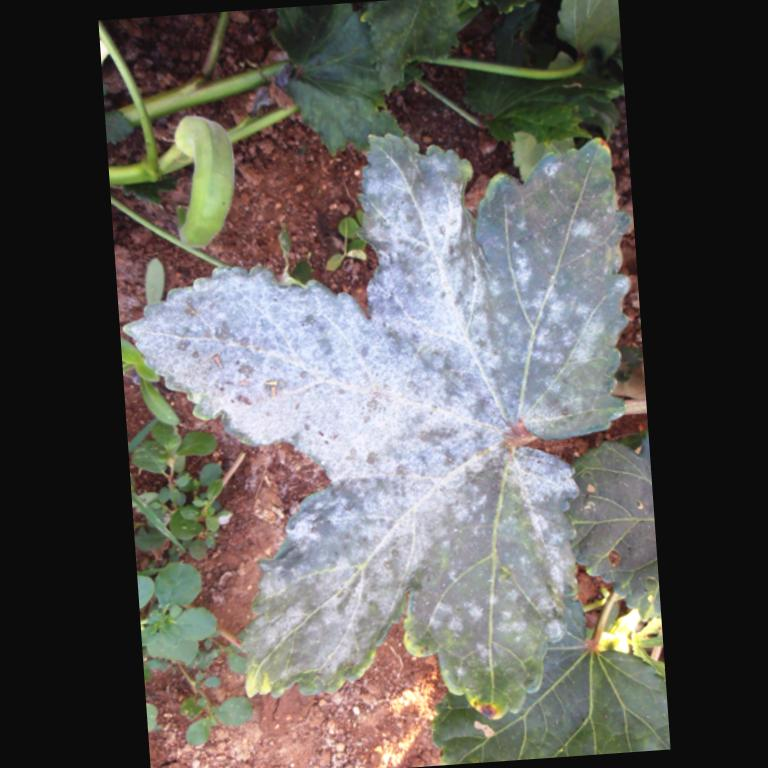powdery-mildew: (350, 302, 510, 550), (199, 292, 342, 412)
